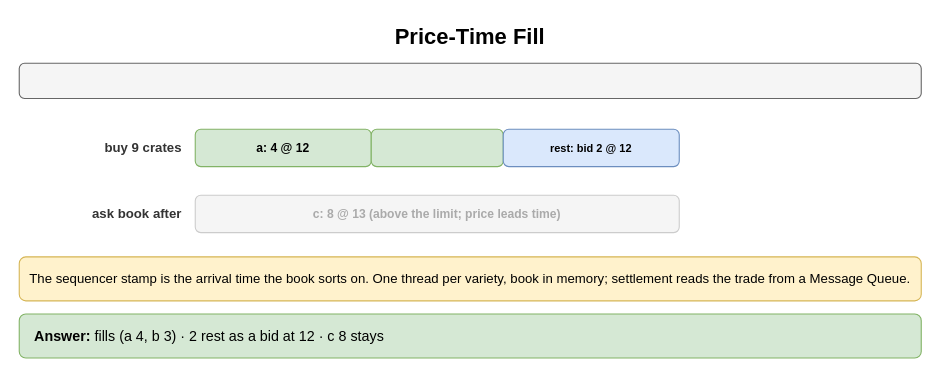
The diagram is 941 pixels wide and 377 high, and some of its shapes have lost their labels. The shapes that lost their labels are listed below. From the top down, each one's centre as x and y in pixels, then its label:
At [469,80]: "Buy 9 at limit 12 against asks a 4@12 t1, b 3@12 t2, c 8@13 t0".
At [436,147]: "b: 3 @ 12".
